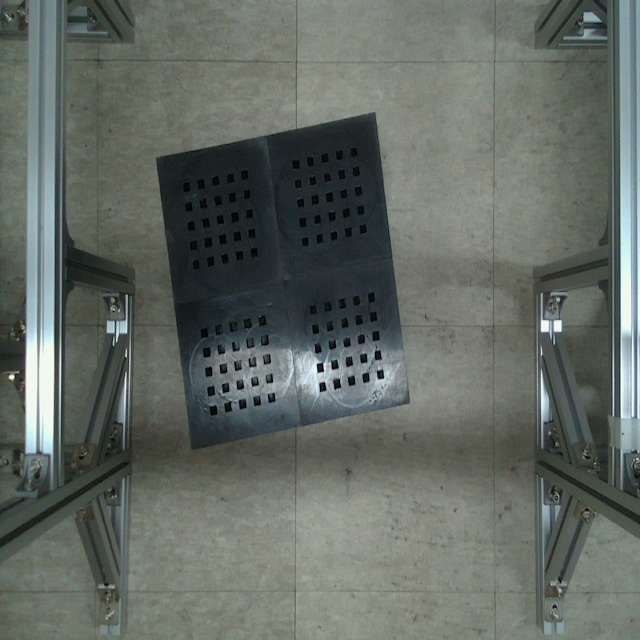pallet: (148, 103, 419, 460)
